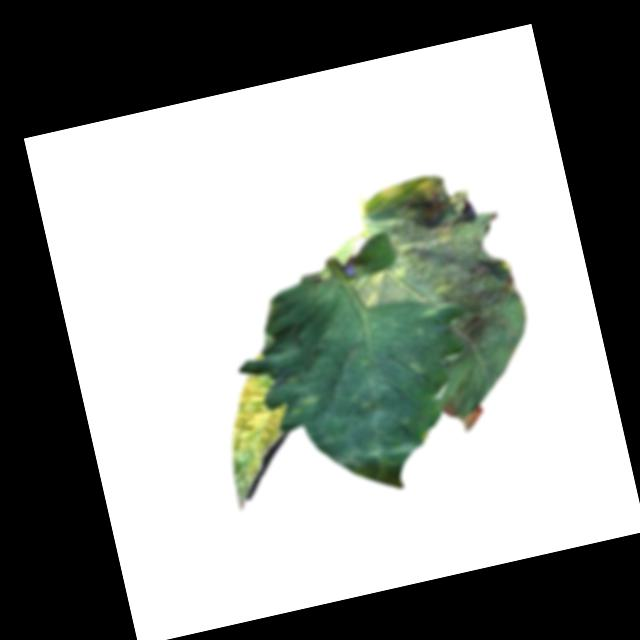Leaf_Mold: (327, 162, 524, 367), (211, 367, 308, 508), (282, 369, 326, 419)
